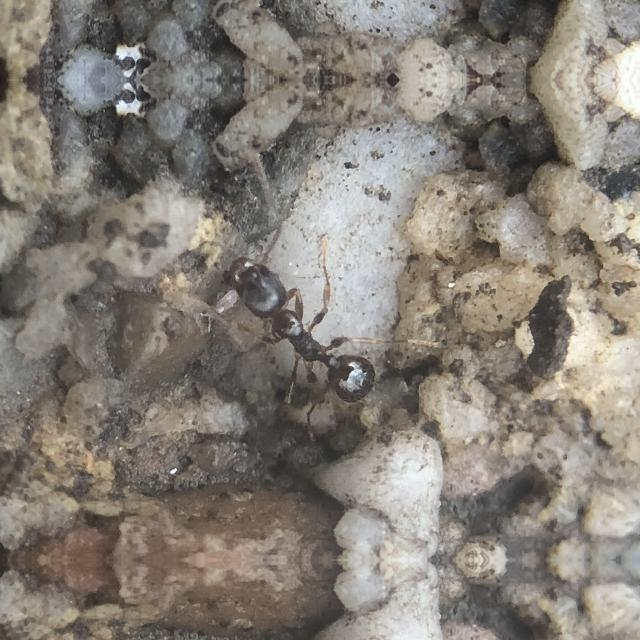Apheanogaster: (200, 233, 412, 421)
